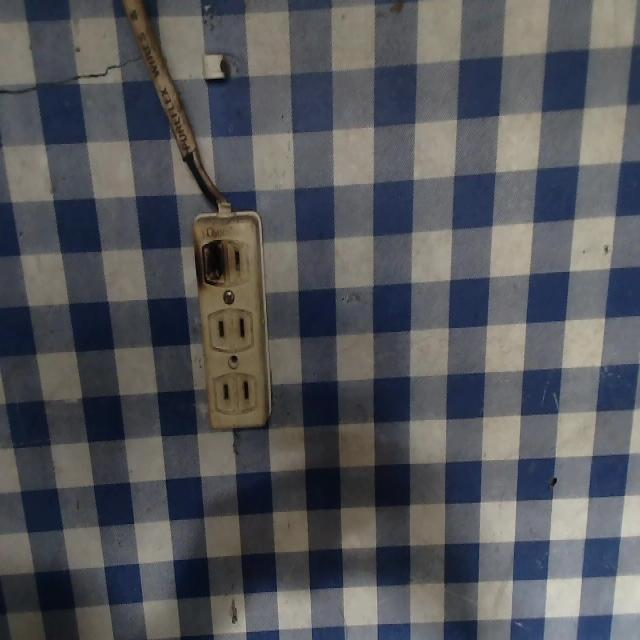-: (185, 235, 230, 293)
